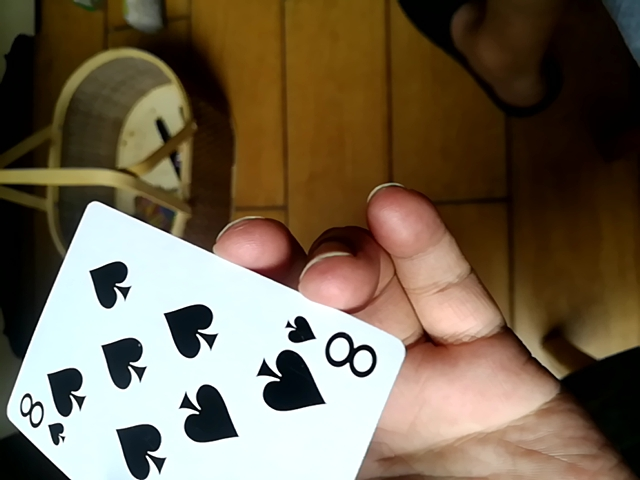ht 8: (0, 196, 407, 480)
